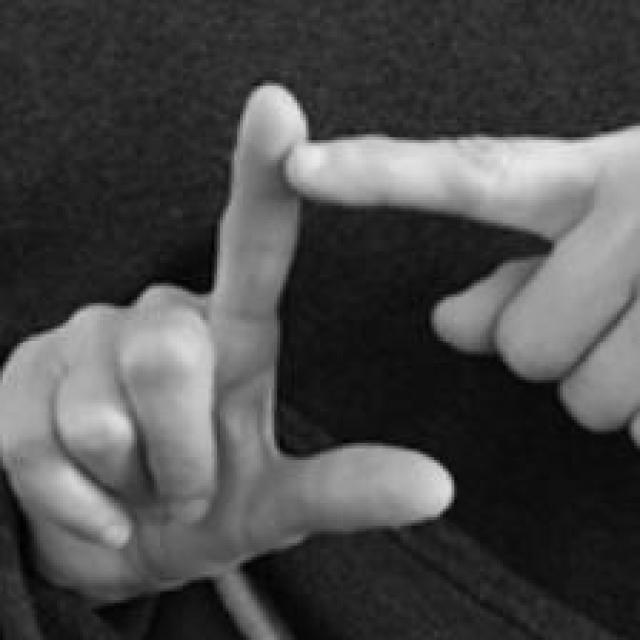J: (0, 80, 640, 605)
